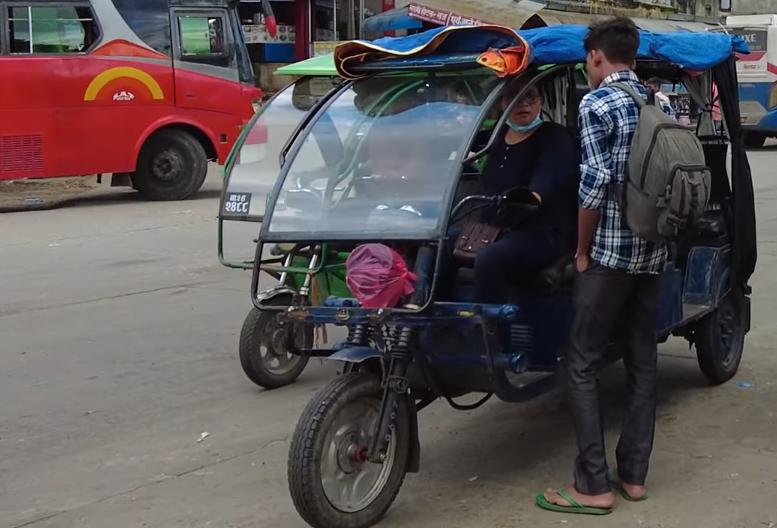bus: (0, 1, 268, 204), (713, 9, 777, 152)
e-rickshaw: (262, 12, 760, 528)
